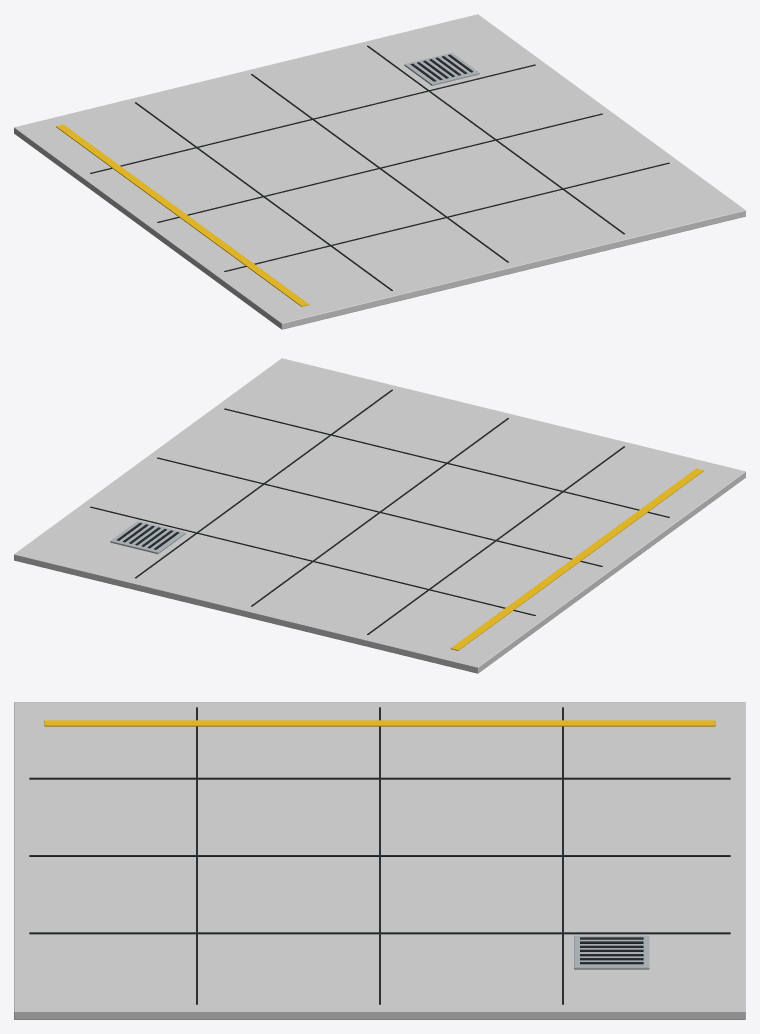
The model's file is sealed_concrete_floor_slab.glb.
3 views of the same model, one above another, from view 1: azimuth 30°, elevation 25°; view 2: azimuth 150°, elevation 25°; view 3: azimuth 270°, elevation 25° (orthographic). The views are drawn at different scales.
Visible parts, largest first — view 1: CONCRETE_slab, SAFETY_aisle_long, DRAIN_frame, CONTROL_joint_y_1.5, CONTROL_joint_y_0, CONTROL_joint_y_-1.5, CONTROL_joint_x_1.5, CONTROL_joint_x_-1.5, CONTROL_joint_x_0; view 2: CONCRETE_slab, SAFETY_aisle_long, DRAIN_frame, CONTROL_joint_y_-1.5, CONTROL_joint_y_0, CONTROL_joint_y_1.5, CONTROL_joint_x_1.5, CONTROL_joint_x_-1.5, CONTROL_joint_x_0; view 3: CONCRETE_slab, SAFETY_aisle_long, CONTROL_joint_x_1.5, CONTROL_joint_x_-1.5, DRAIN_frame, CONTROL_joint_x_0, CONTROL_joint_y_0, CONTROL_joint_y_1.5, CONTROL_joint_y_-1.5.
Part boxes in pixels (<box>): CONCRETE_slab: <box>14,14,745,329</box>; SAFETY_aisle_long: <box>56,124,309,306</box>; DRAIN_frame: <box>404,52,479,85</box>; CONTROL_joint_y_1.5: <box>90,64,535,173</box>; CONTROL_joint_y_0: <box>157,113,602,222</box>; CONTROL_joint_y_-1.5: <box>224,162,669,271</box>; CONTROL_joint_x_1.5: <box>367,45,624,234</box>; CONTROL_joint_x_-1.5: <box>135,102,392,290</box>; CONTROL_joint_x_0: <box>251,74,508,262</box>; CONCRETE_slab: <box>14,358,745,673</box>; SAFETY_aisle_long: <box>450,468,703,650</box>; DRAIN_frame: <box>110,521,185,553</box>; CONTROL_joint_y_-1.5: <box>224,408,669,517</box>; CONTROL_joint_y_0: <box>157,457,602,566</box>; CONTROL_joint_y_1.5: <box>90,506,535,615</box>; CONTROL_joint_x_1.5: <box>135,389,392,578</box>; CONTROL_joint_x_-1.5: <box>367,446,624,634</box>; CONTROL_joint_x_0: <box>251,418,508,606</box>; CONCRETE_slab: <box>14,702,745,1019</box>; SAFETY_aisle_long: <box>44,720,715,726</box>; CONTROL_joint_x_1.5: <box>29,932,730,934</box>; CONTROL_joint_x_-1.5: <box>29,777,730,779</box>; DRAIN_frame: <box>574,935,649,969</box>; CONTROL_joint_x_0: <box>29,855,730,856</box>; CONTROL_joint_y_0: <box>379,707,380,1004</box>; CONTROL_joint_y_1.5: <box>562,707,563,1004</box>; CONTROL_joint_y_-1.5: <box>196,707,197,1004</box>.
Size of the model in its own units: 6 by 0.117 by 6.
